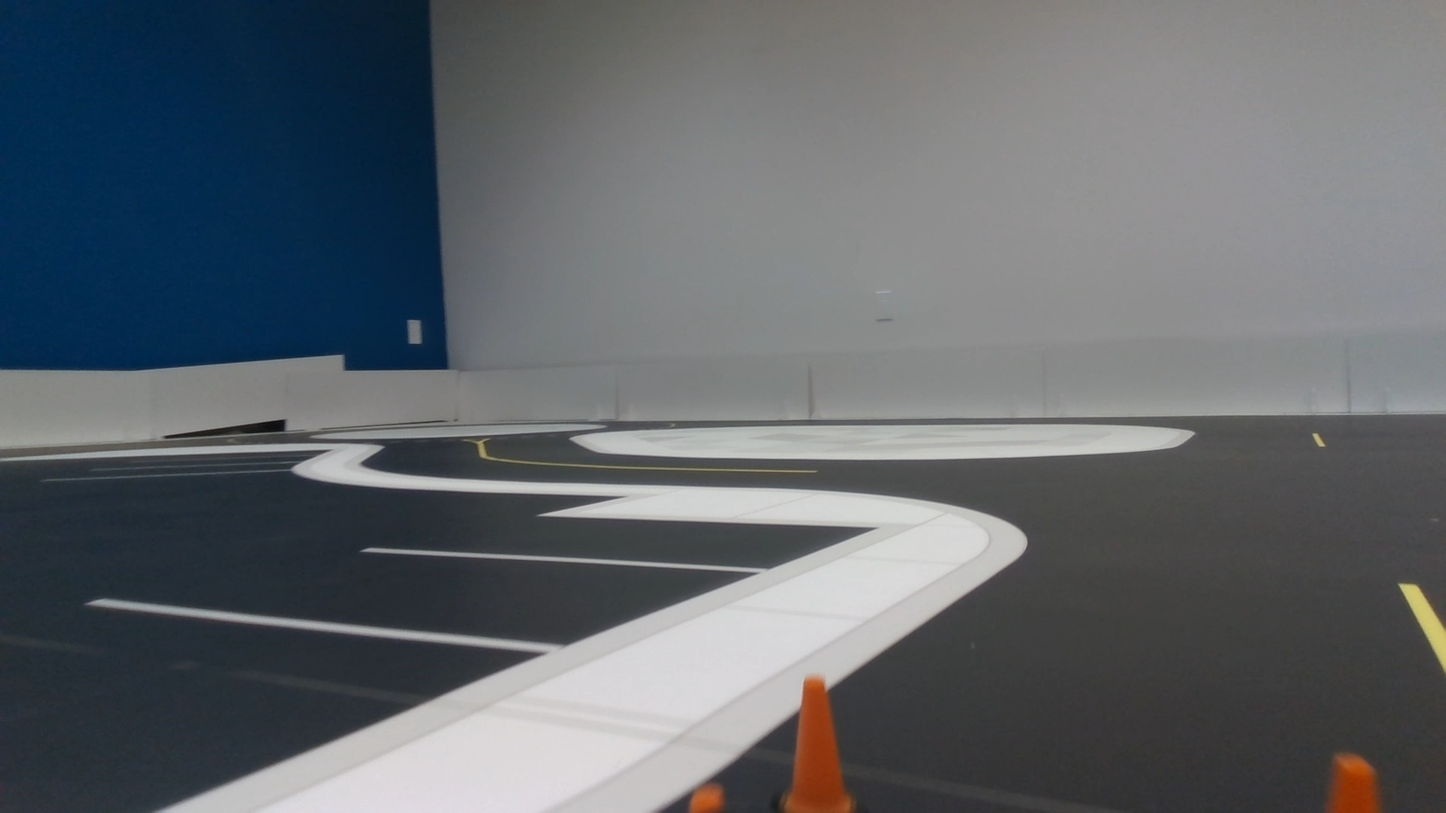Traffic Cone: (779, 676, 856, 812), (1326, 754, 1380, 812), (688, 784, 725, 812)
